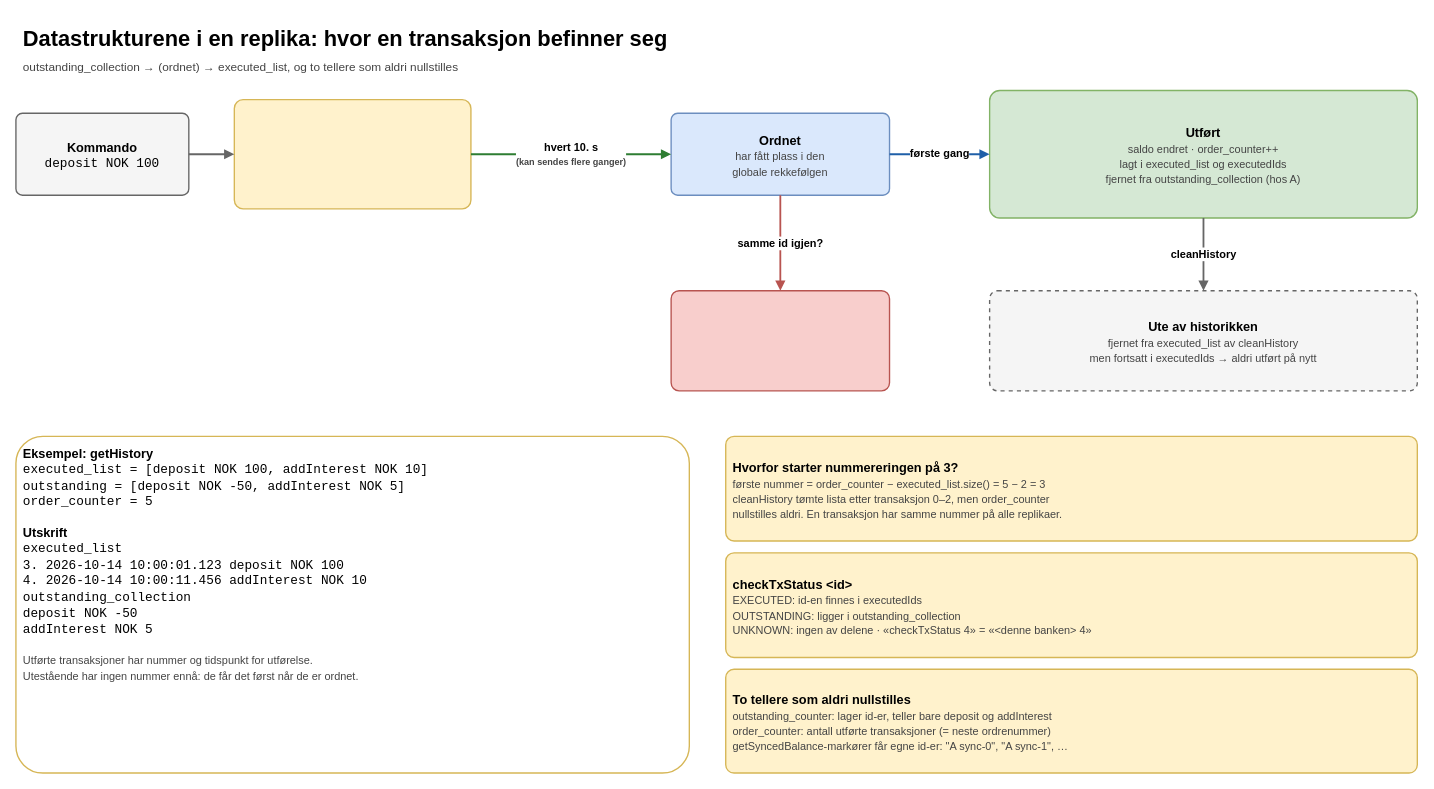
Image size: 1434x789. Some labels were removed from this diagram. Each missing label, with the centre of its shape:
Hoppes over id-en finnes i executedIds ACK sendes likevel: point (780, 340)
Utestående i outstanding_collection får id "A 4" outstanding_counter: 4 → 5: point (352, 154)
